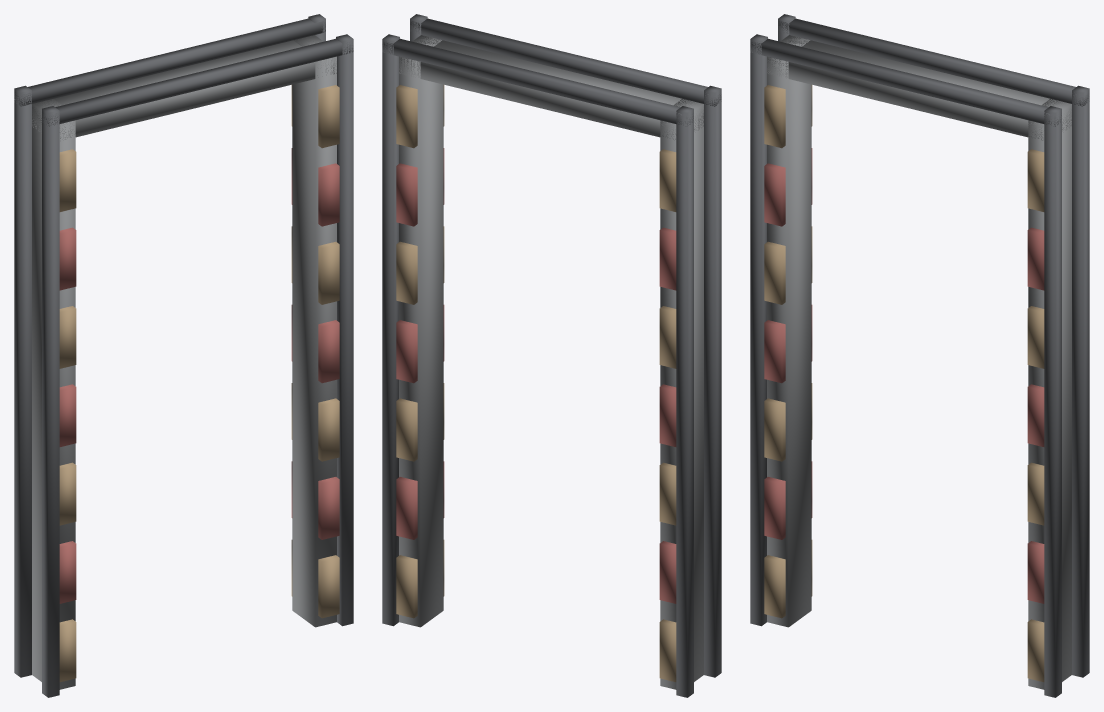
File: doorway_brick_return_w96_h210_d16.glb
The picture shows the model from 3 angles, left to right: view 1: azimuth 30°, elevation 25°; view 2: azimuth 150°, elevation 25°; view 3: azimuth 330°, elevation 25°; orthographic projection.
Visible parts, largest first — view 1: world; view 2: world; view 3: world.
Part boxes in pixels (x1,y1,x2,y2): world: [14, 14, 353, 697]; world: [382, 14, 721, 697]; world: [750, 14, 1089, 697].
Bounding box in the file's own units: 1.22 × 2.24 × 0.2365.
